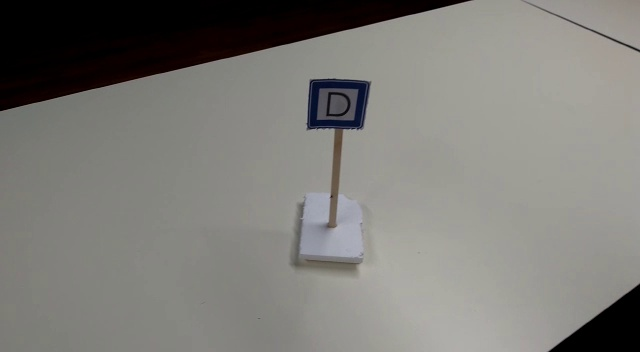durak: (307, 80, 369, 130)
